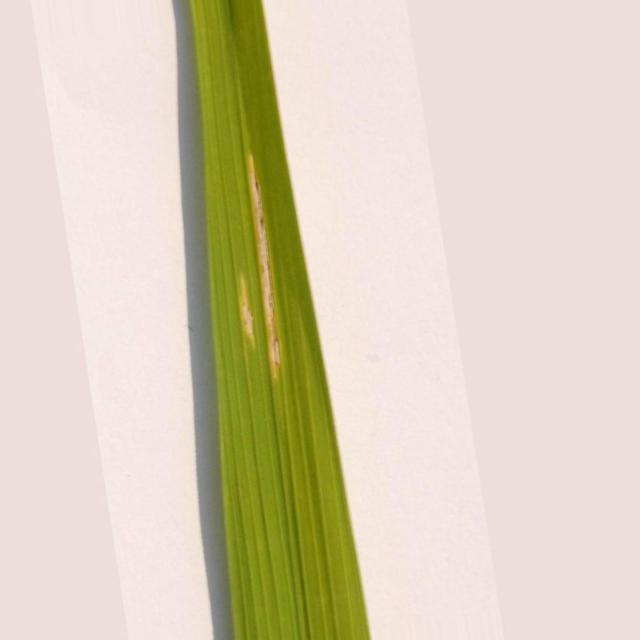Bacterial_Leaf_Blight: (248, 155, 280, 369), (239, 272, 255, 347), (270, 392, 274, 420)
